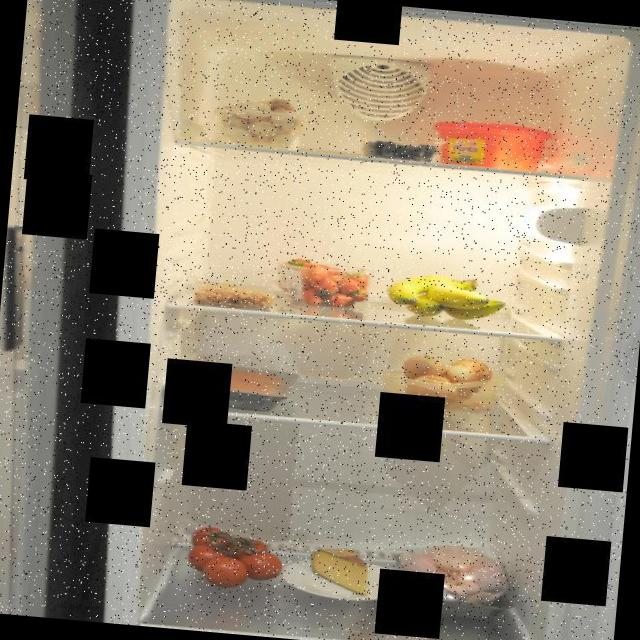Carne pollo: (388, 539, 526, 620)
Carne vacuno: (194, 364, 278, 398)
Cebolla: (394, 350, 496, 413)
Champiñones: (206, 90, 316, 153)
Gambas/Langostinos: (193, 278, 274, 312)
Mantequilla: (428, 114, 556, 174)
Plátano: (385, 268, 508, 326)
Queso: (308, 542, 376, 600)
Tomate: (182, 520, 290, 595)
